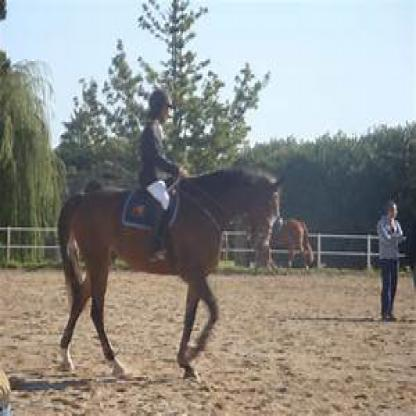horse: (57, 165, 281, 379)
